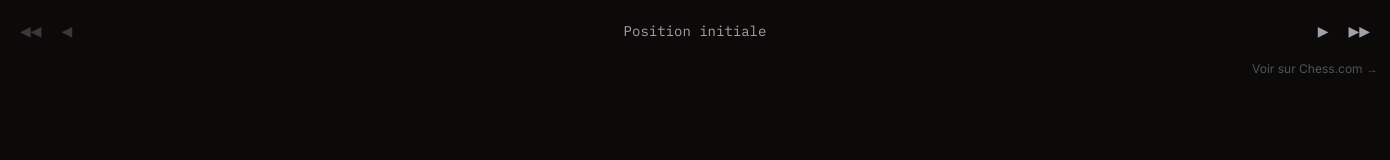
Test: BoardViewer — avec PGN › saute à la fin sur ▶▶
Click the button named "fin".
click(1359, 30)  # box [1340, 16, 1378, 45]
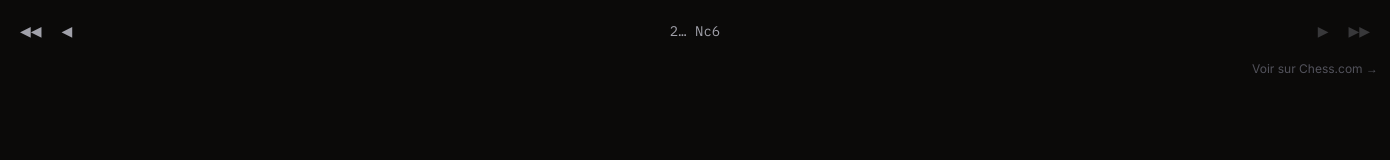
expect the button named "suivant" is disabled: met, box [1310, 16, 1336, 45]
expect the button named "fin" is disabled: met, box [1340, 16, 1378, 45]
